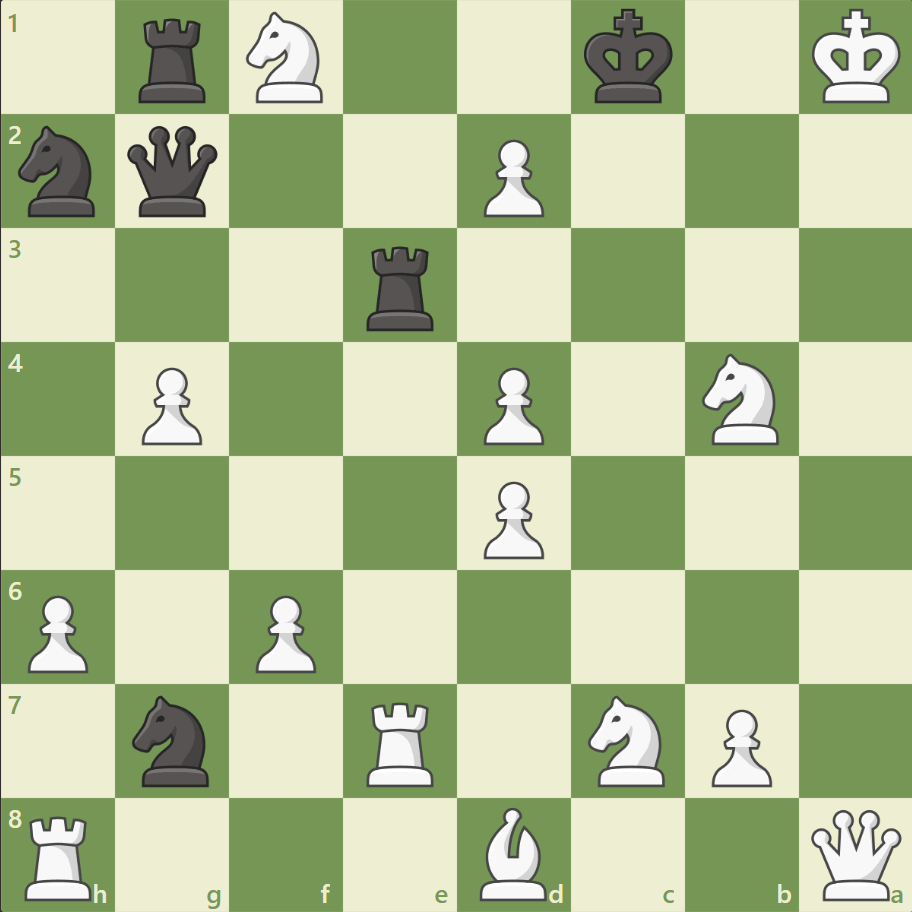B: (471, 801, 555, 904)
K: (806, 4, 906, 112)
N: (579, 688, 676, 791), (238, 7, 335, 110), (692, 348, 789, 450)
P: (701, 700, 776, 791), (247, 586, 322, 677), (20, 586, 95, 677), (474, 473, 549, 564), (474, 359, 549, 450), (133, 359, 208, 450), (474, 132, 549, 223)
Q: (805, 804, 904, 903)
R: (19, 806, 102, 904), (360, 693, 442, 790)
k: (579, 4, 679, 112)
n: (124, 688, 222, 791), (11, 121, 108, 223)
q: (124, 122, 223, 222)
r: (360, 239, 442, 336), (133, 12, 215, 109)
